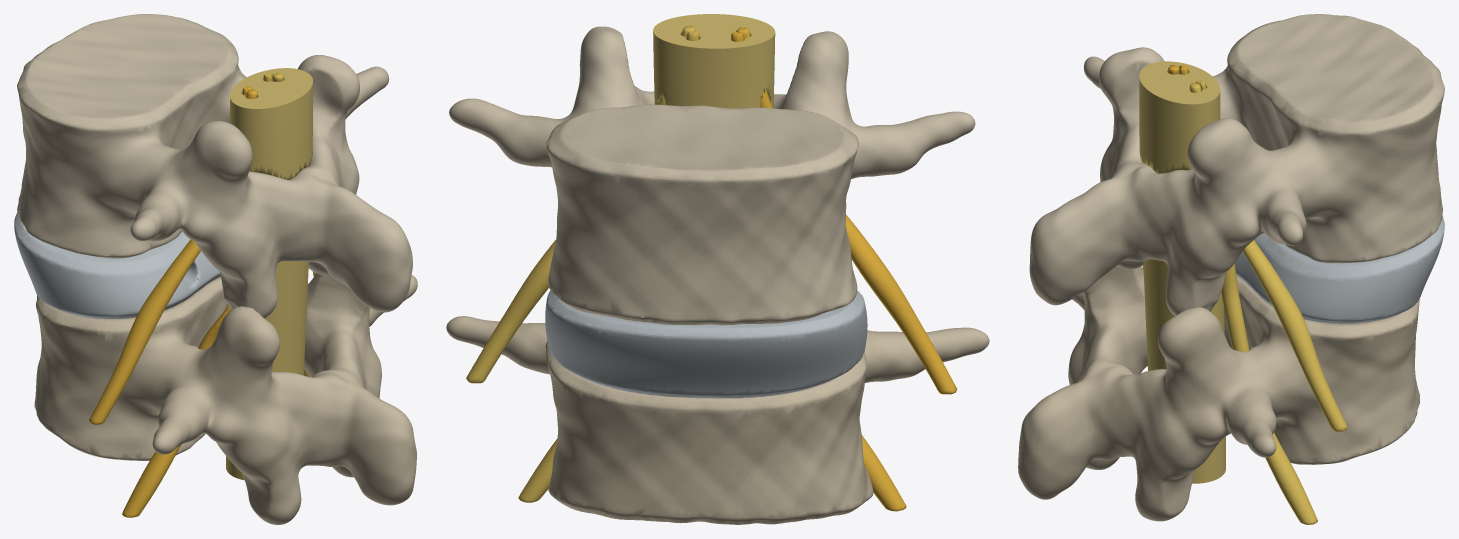
File: spine_degen_listhesis.glb
The picture shows the model from 3 angles, left to right: view 1: azimuth 30°, elevation 25°; view 2: azimuth 150°, elevation 25°; view 3: azimuth 270°, elevation 25°; orthographic projection. The views are drawn at different scales.
Parts seen in each view (by area): view 1: l4_vertebra, l5_vertebra, thecal_sac, annulus_fibrosus, l4_nerve_root_left, l5_nerve_root_left; view 2: l4_vertebra, l5_vertebra, annulus_fibrosus, thecal_sac, l4_nerve_root_left, nerve_roots, l5_nerve_root_left; view 3: l4_vertebra, l5_vertebra, annulus_fibrosus, thecal_sac, nerve_roots.
Part boxes in pixels (left/top/right/bottom): l4_vertebra: left=17, top=14, right=412, bottom=318; l5_vertebra: left=34, top=273, right=417, bottom=524; thecal_sac: left=226, top=68, right=312, bottom=480; annulus_fibrosus: left=14, top=212, right=220, bottom=319; l4_nerve_root_left: left=89, top=89, right=257, bottom=424; l5_nerve_root_left: left=122, top=86, right=253, bottom=517; l4_vertebra: left=449, top=26, right=975, bottom=325; l5_vertebra: left=446, top=316, right=989, bottom=524; annulus_fibrosus: left=545, top=290, right=867, bottom=398; thecal_sac: left=653, top=14, right=775, bottom=108; l4_nerve_root_left: left=736, top=27, right=957, bottom=394; nerve_roots: left=466, top=26, right=699, bottom=502; l5_nerve_root_left: left=731, top=31, right=906, bottom=511; l4_vertebra: left=1029, top=14, right=1444, bottom=315; l5_vertebra: left=1018, top=266, right=1419, bottom=521; annulus_fibrosus: left=1234, top=215, right=1444, bottom=323; thecal_sac: left=1139, top=61, right=1225, bottom=483; nerve_roots: left=1189, top=80, right=1347, bottom=524.
Size of the model in its own units: 7.95 by 7.92 by 7.52.
